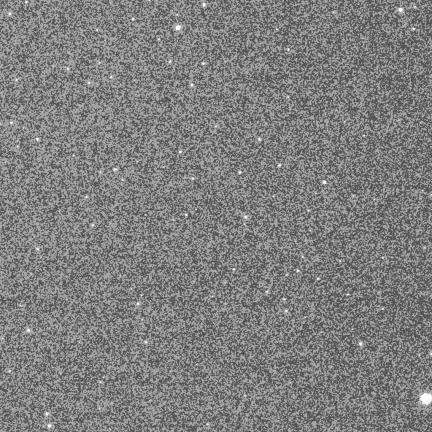blob: (421, 394, 431, 404), (359, 342, 363, 347), (176, 25, 180, 30), (36, 138, 40, 142), (399, 8, 403, 12), (278, 164, 282, 168), (238, 171, 242, 175), (27, 329, 31, 333), (258, 138, 262, 142), (145, 341, 148, 345), (202, 63, 206, 66), (10, 122, 14, 125), (179, 151, 183, 154), (132, 18, 135, 22), (285, 310, 289, 313), (46, 412, 49, 416), (113, 168, 117, 171), (203, 3, 206, 7), (191, 84, 194, 87), (297, 270, 300, 273), (110, 76, 113, 79), (137, 303, 140, 306), (266, 291, 269, 294), (169, 61, 172, 64), (88, 82, 91, 85), (67, 68, 70, 71), (245, 216, 248, 219), (317, 278, 320, 281), (233, 268, 236, 271), (9, 13, 12, 16), (323, 181, 326, 184), (16, 79, 18, 82), (192, 178, 195, 180)
